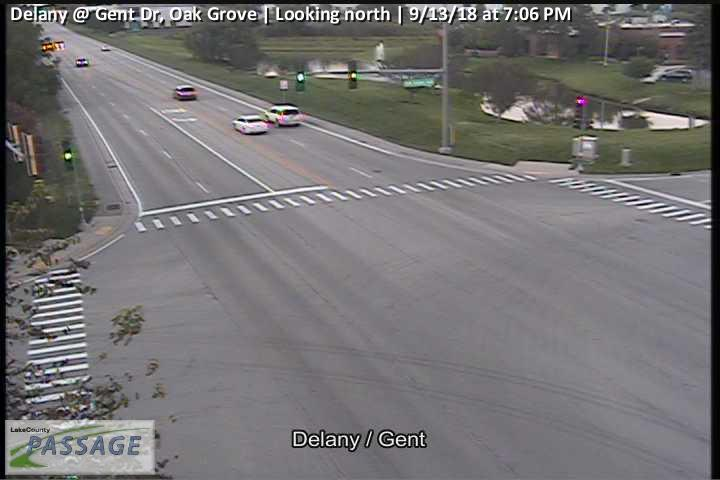Sedan: (265, 104, 302, 126), (234, 114, 268, 134), (175, 85, 196, 99), (76, 57, 87, 66), (101, 44, 110, 51)
